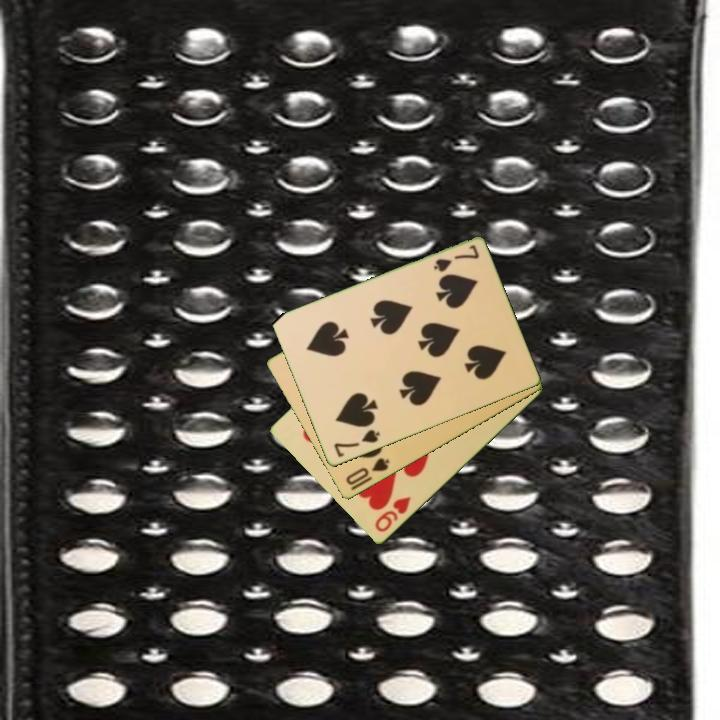10s: (342, 455, 392, 489)
7s: (330, 426, 383, 461), (430, 241, 482, 276)
9h: (371, 493, 414, 536)
